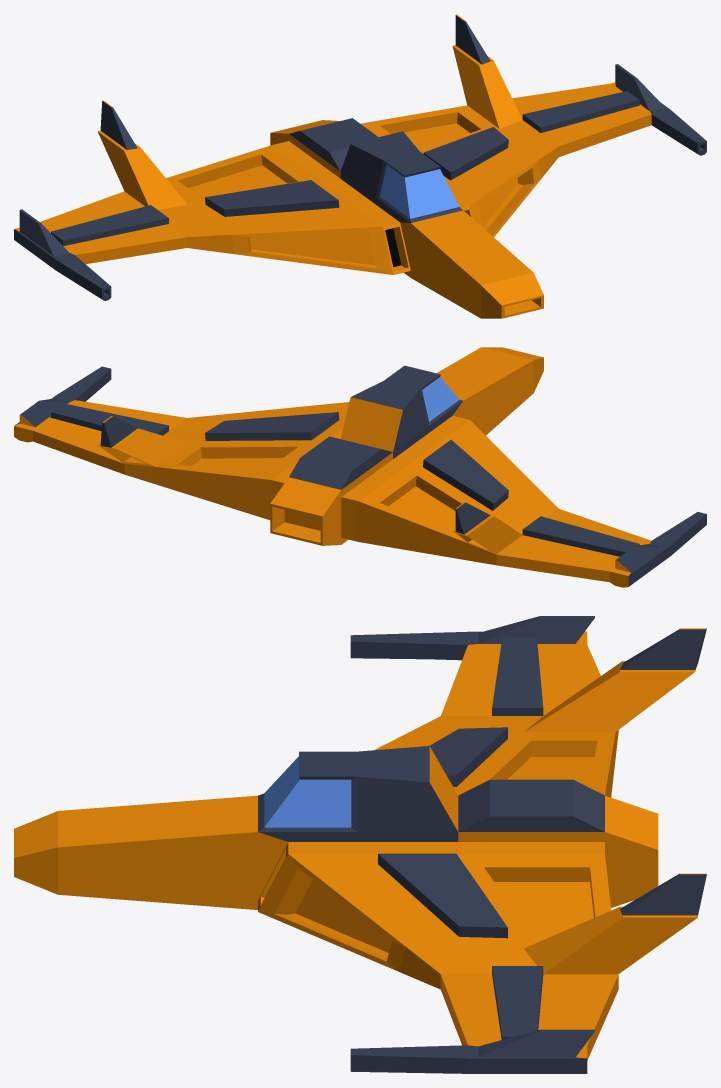
Rendered from SolarRevenant.glb.
The picture shows the model from 3 angles, top to bottom: view 1: azimuth 30°, elevation 25°; view 2: azimuth 150°, elevation 25°; view 3: azimuth 270°, elevation 25°; orthographic projection. The views are drawn at different scales.
Parts seen in each view (by area): view 1: SolarRevenant; view 2: SolarRevenant; view 3: SolarRevenant.
Boxes of the visible parts, x1,y1,x2,y2 form: SolarRevenant: [14, 14, 706, 318]; SolarRevenant: [14, 347, 706, 587]; SolarRevenant: [14, 616, 706, 1073].
Bounding box in the file's own units: 26.75 × 4.11 × 18.36.
1 material, 1 textured.
